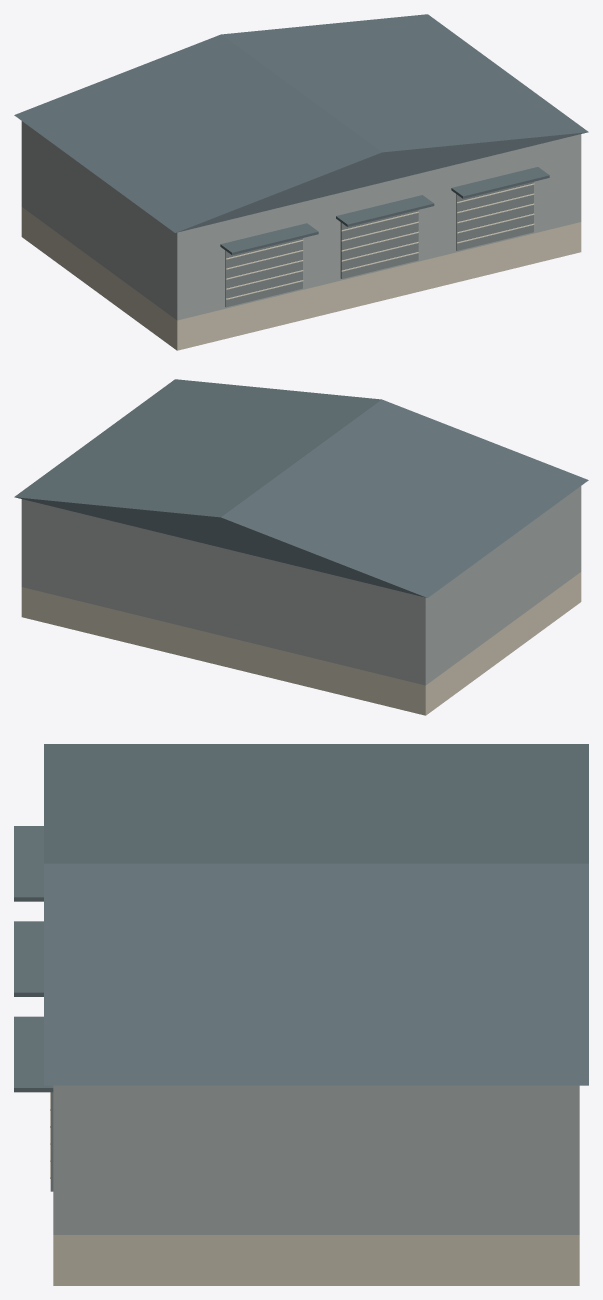
File: dock-shed-1.glb
3 views of the same model, one above another, from view 1: azimuth 30°, elevation 25°; view 2: azimuth 150°, elevation 25°; view 3: azimuth 270°, elevation 25° (orthographic). The views are drawn at different scales.
Bounding box in the file's own units: 10.75 × 3.75 × 7.65.
